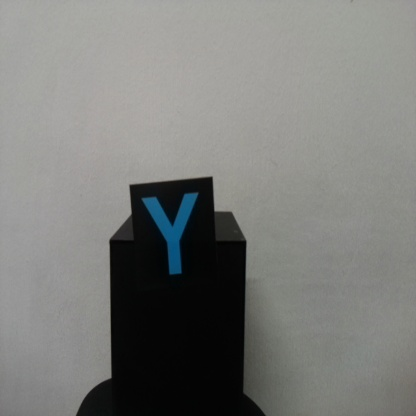id_14: (131, 184, 215, 296)
